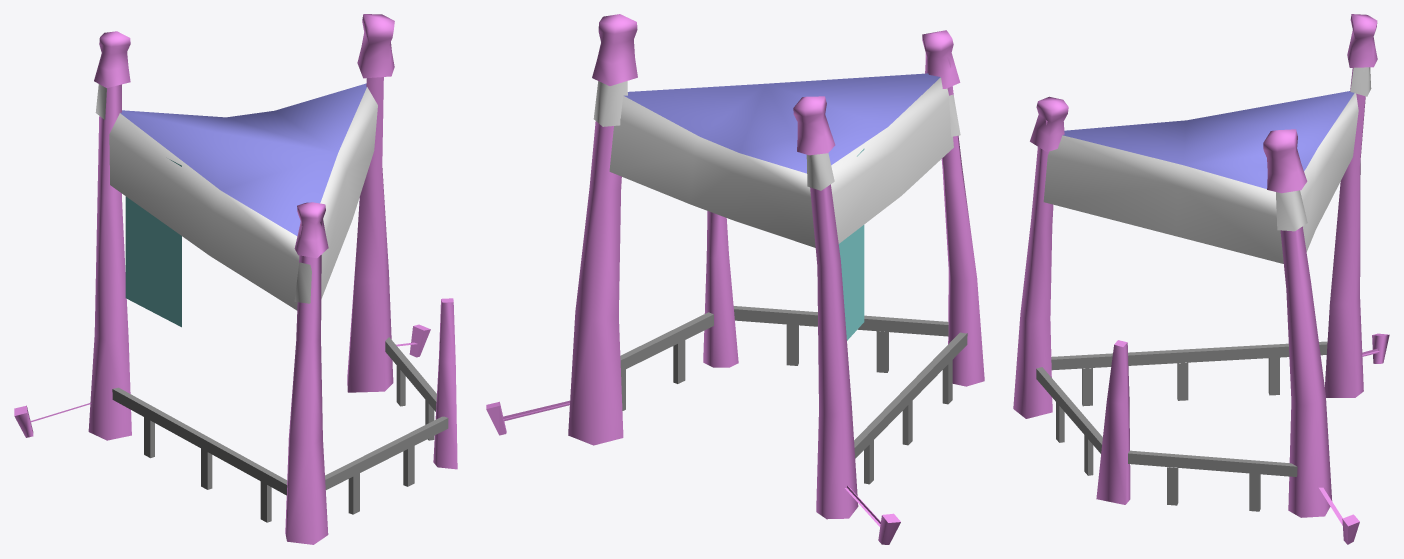
File: pm_landmark_camp04.gltf
3 views of the same model, side by side, from view 1: azimuth 30°, elevation 25°; view 2: azimuth 150°, elevation 25°; view 3: azimuth 270°, elevation 25° (orthographic). The views are drawn at different scales.
Visible parts, largest first — view 1: pm_landmark_camp04; view 2: pm_landmark_camp04; view 3: pm_landmark_camp04.
Part boxes in pixels (left/top/right/bottom): pm_landmark_camp04: left=14, top=14, right=457, bottom=544; pm_landmark_camp04: left=486, top=14, right=984, bottom=544; pm_landmark_camp04: left=1013, top=14, right=1389, bottom=544.
Bounding box in the file's own units: 2.17 × 2.02 × 1.79.
